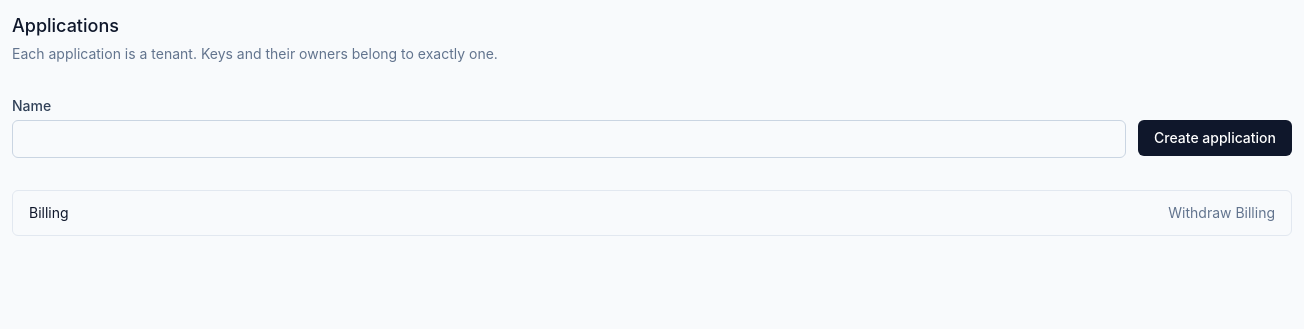
Scenario: surfaces a duplicate-name conflict from the API
Check: the list named "applications" is shown, box [12,190,1292,236]
Step 1. Type "Billing" into the field labelled "Name" → [569, 139], box [12,120,1126,158]
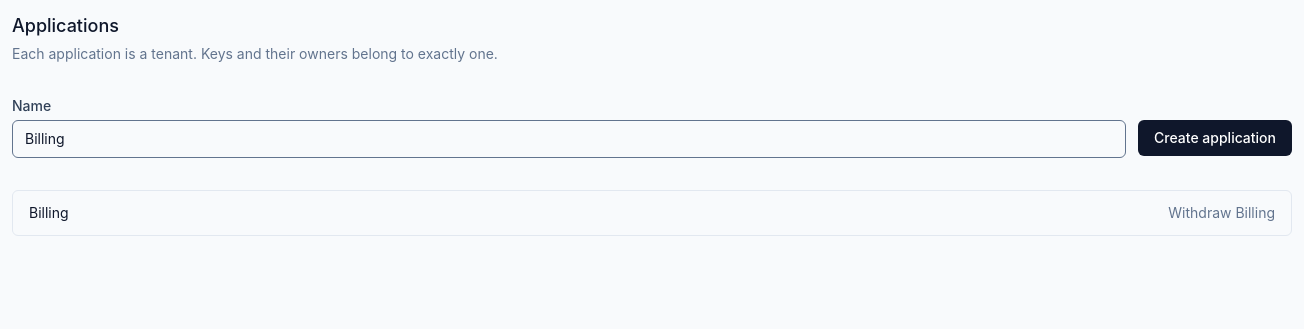
Step 2. Click the button "Create application" → [1215, 138], box [1138,120,1292,156]
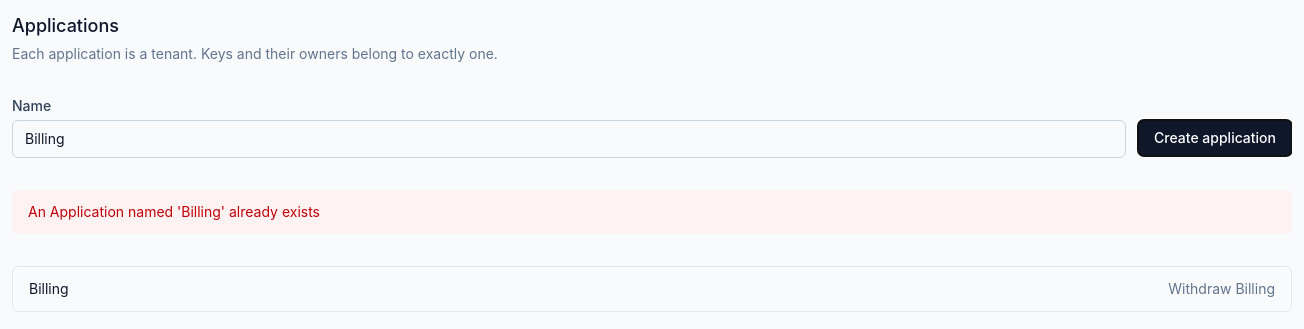
Check: the message shows "already exists", box [28,203,320,220]
